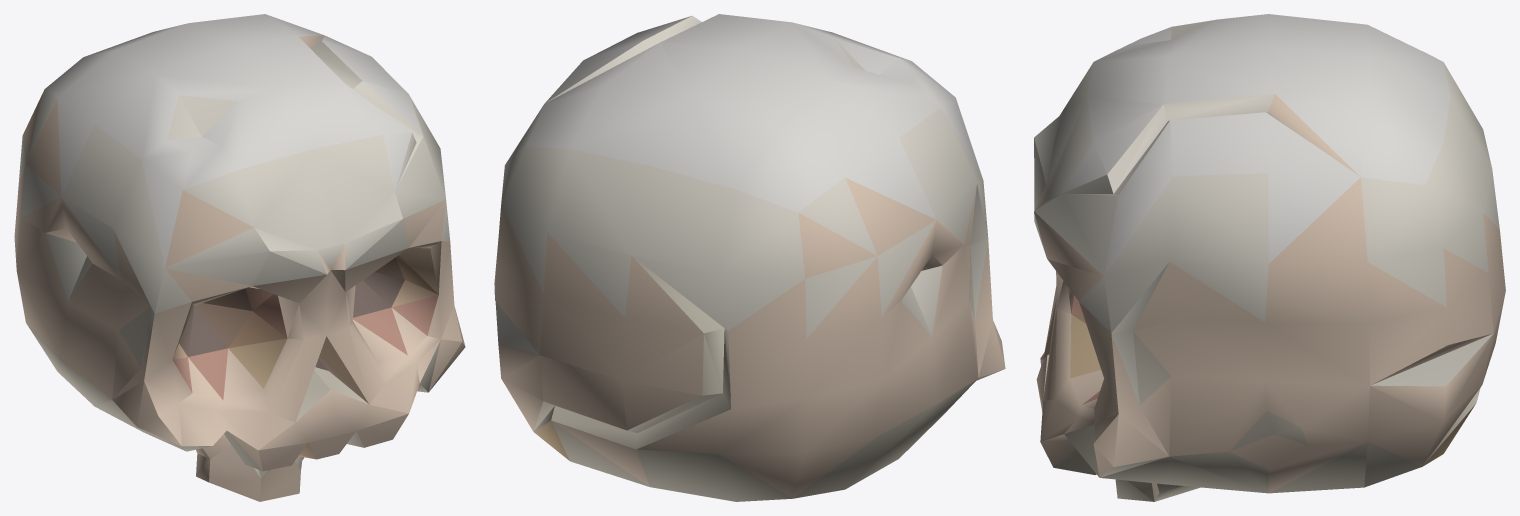
3 views of the same model, side by side, from view 1: azimuth 30°, elevation 25°; view 2: azimuth 150°, elevation 25°; view 3: azimuth 270°, elevation 25° (orthographic). The views are drawn at different scales.
Parts seen in each view (by area): view 1: model; view 2: model; view 3: model.
Part boxes in pixels (box(x1,y1,x2,y2)): model: box(14, 14, 465, 501); model: box(494, 14, 1005, 501); model: box(1034, 14, 1505, 501).
Bounding box in the file's own units: 0.6531 × 0.7296 × 0.6842.
